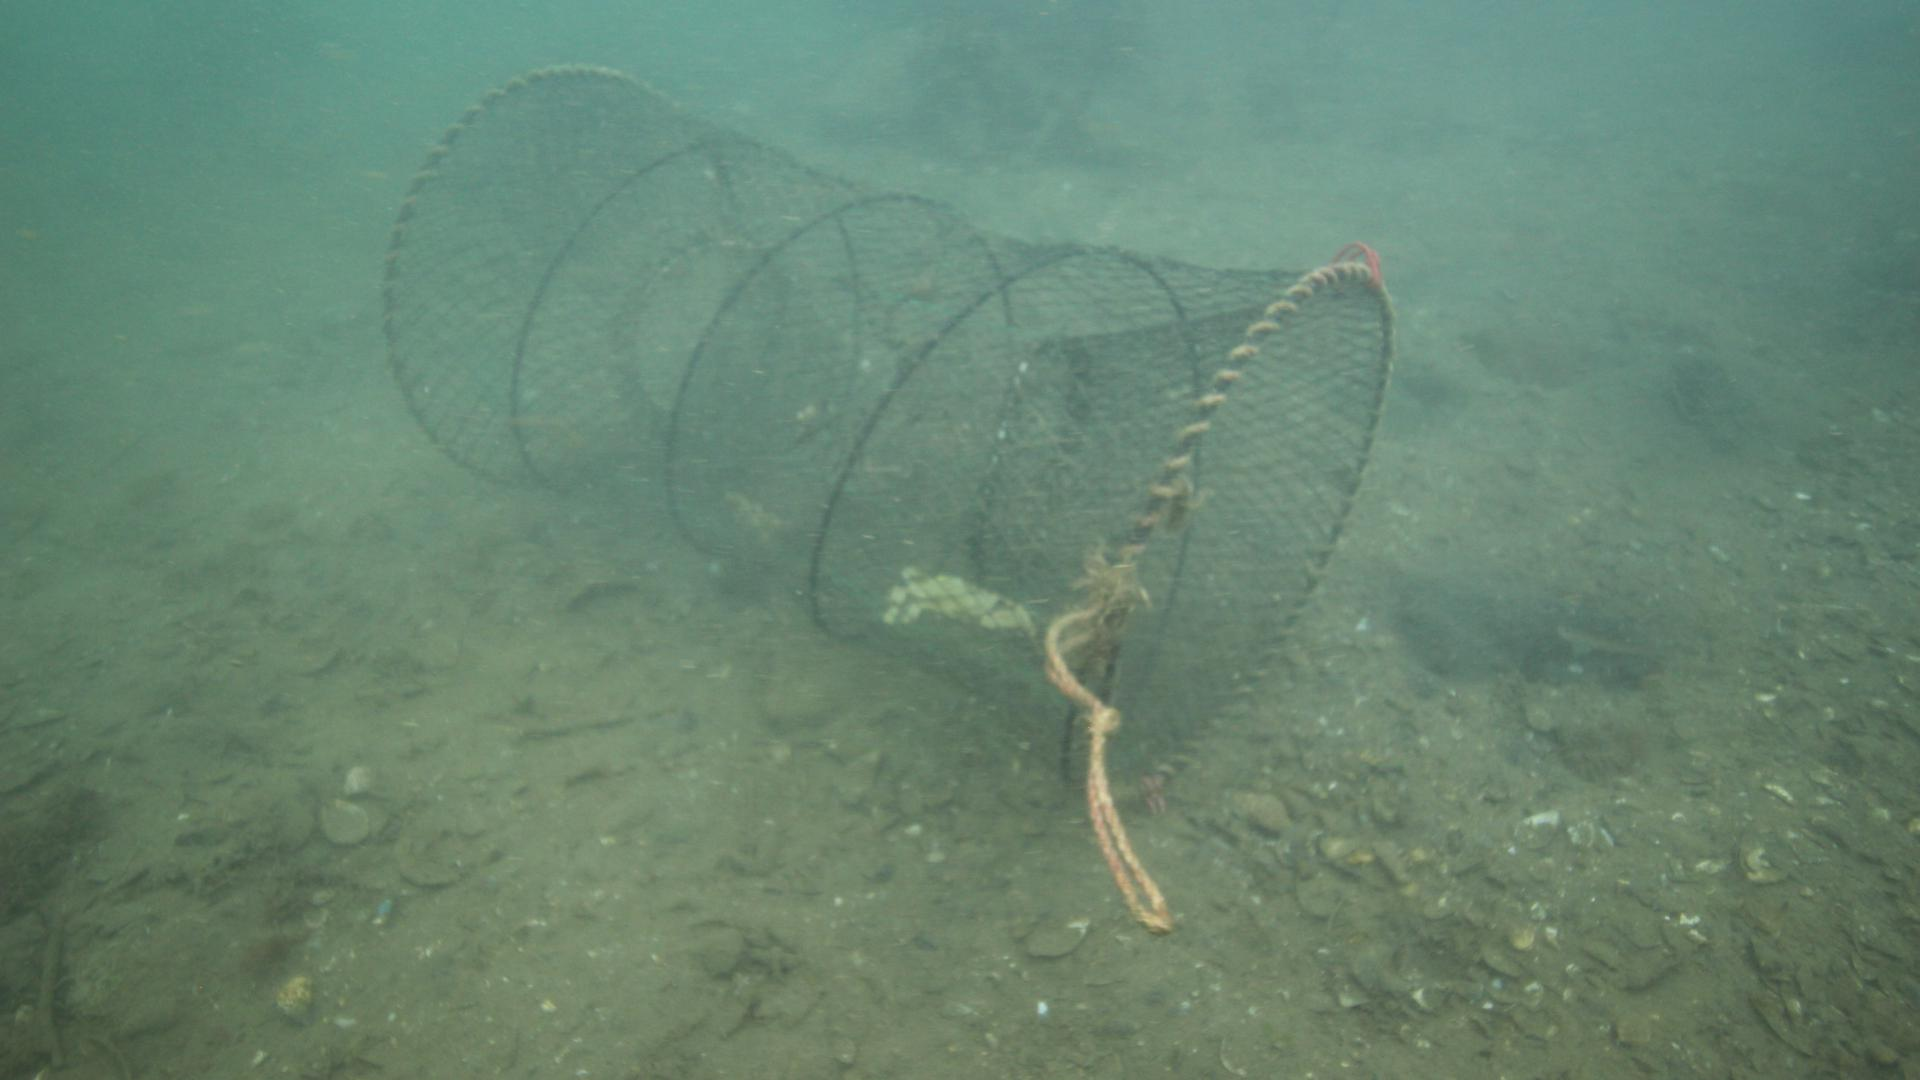bundle of ropes: (1040, 592, 1183, 935)
spring fish trap: (378, 65, 1394, 804)
